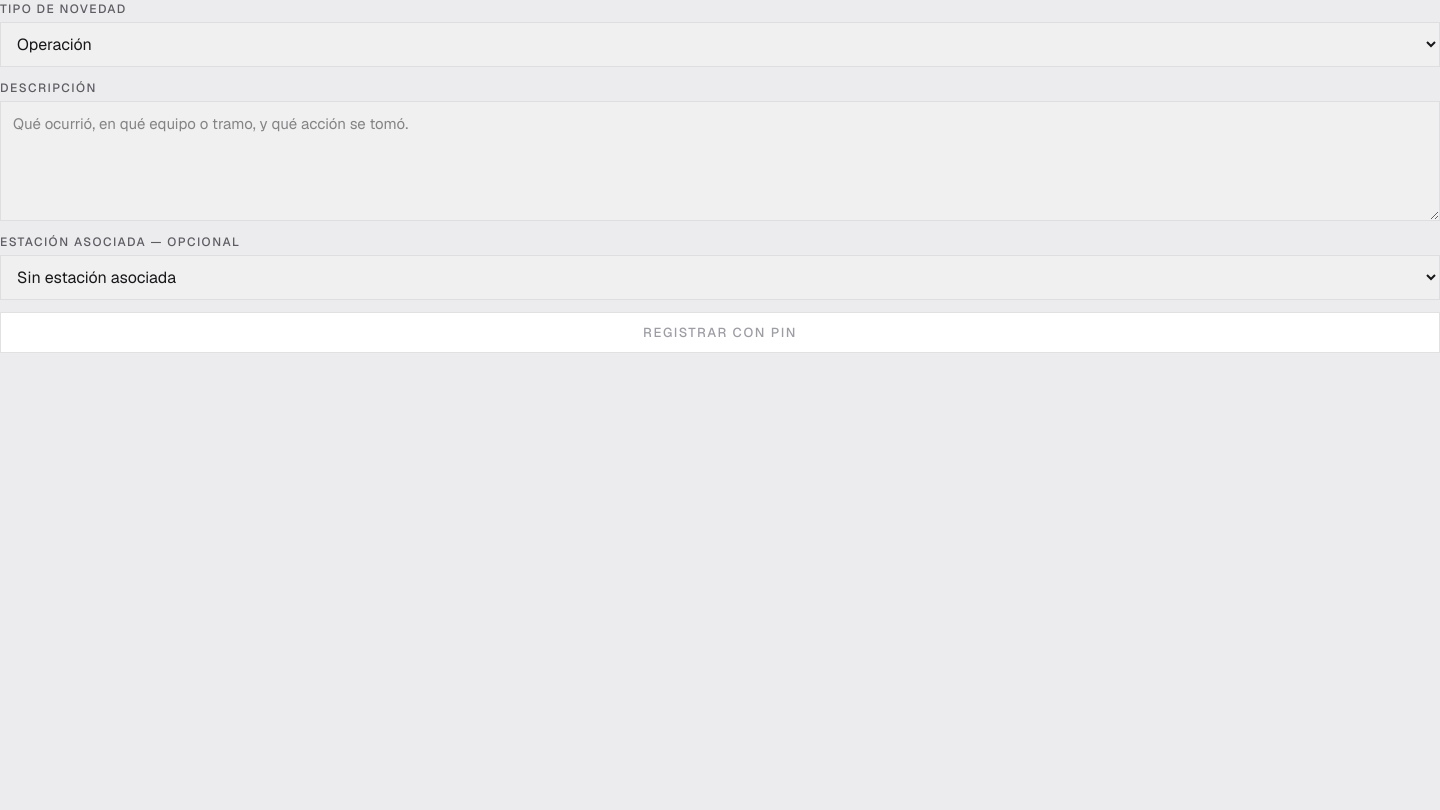
Test: ShiftNoteForm › commits a structured note stamped with actor + workstation + timestamp
Select "Incidente" in the dropdown labelled "Tipo de novedad" at (720, 44), box [0,22,1439,67]
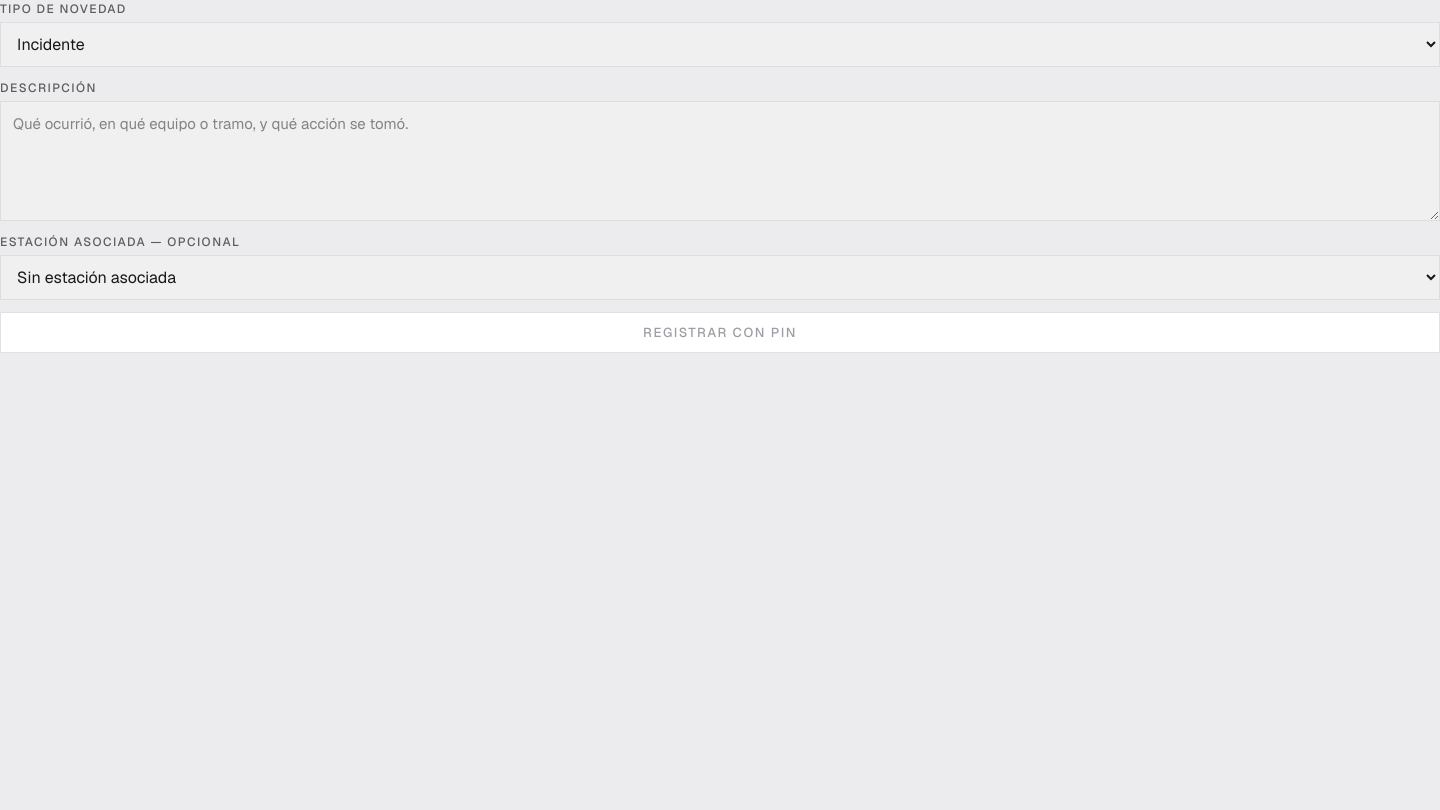
Type "Vibración anómala en bomba P-201, se detuvo y avisó a mantención." into the text box labelled "Descripción" at (720, 161), box [0,101,1439,220]
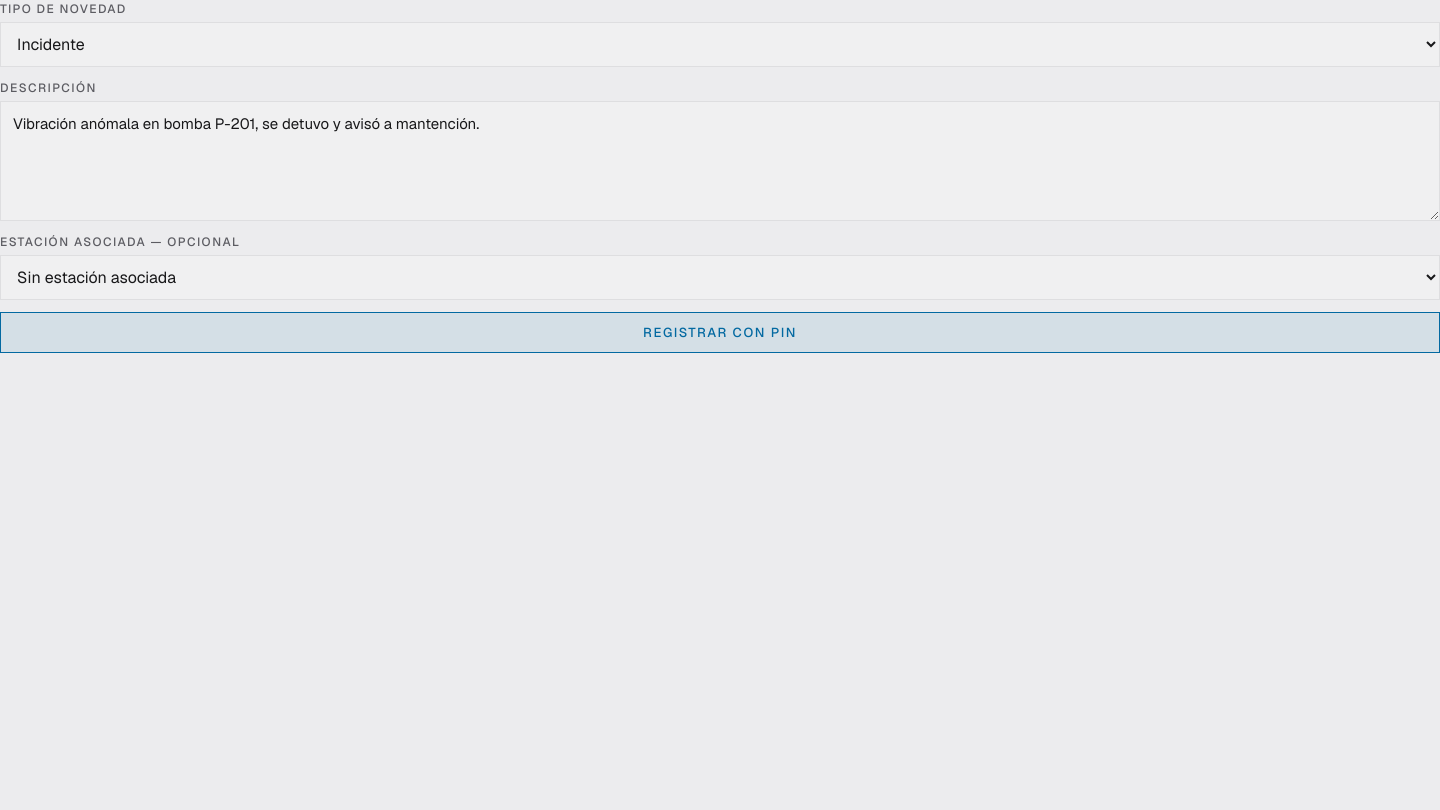
Select "Puerto Hernández" in the dropdown labelled "Estación asociada — opcional" at (720, 277), box [0,254,1439,300]
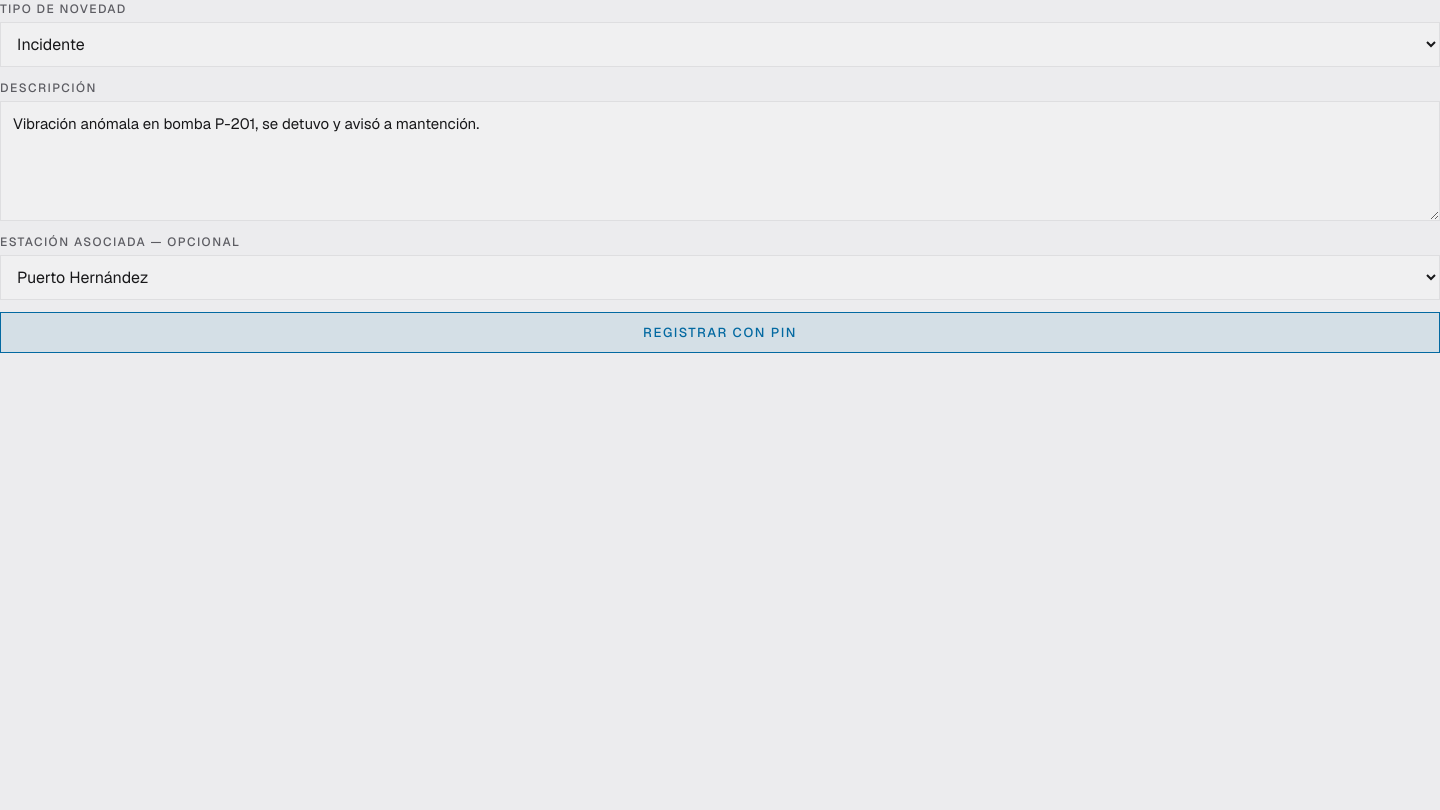
Click the button "Registrar con PIN" at (720, 332), box [0,312,1439,353]
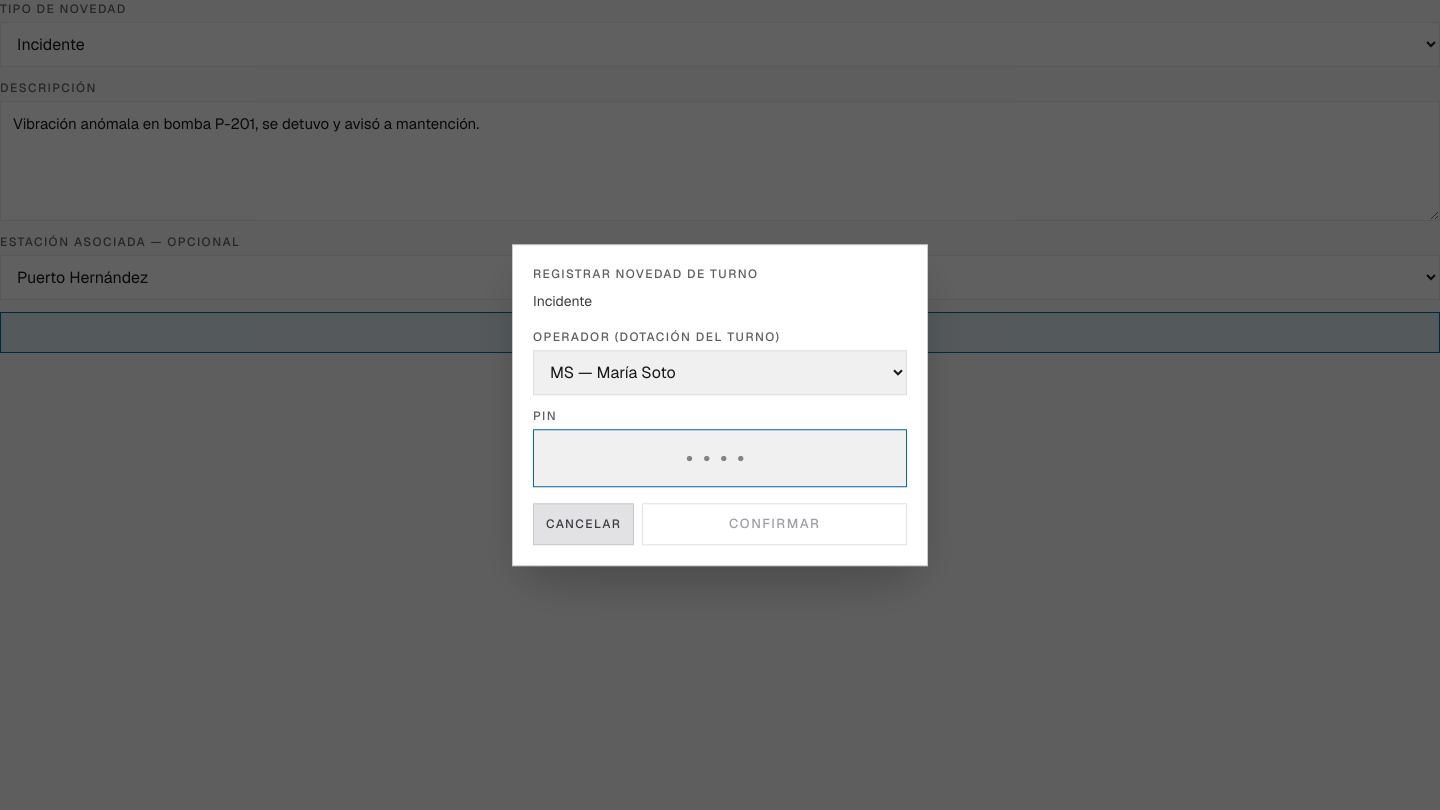
Type "0580" into the password field labelled "PIN" at (720, 458), box [533,429,907,487]
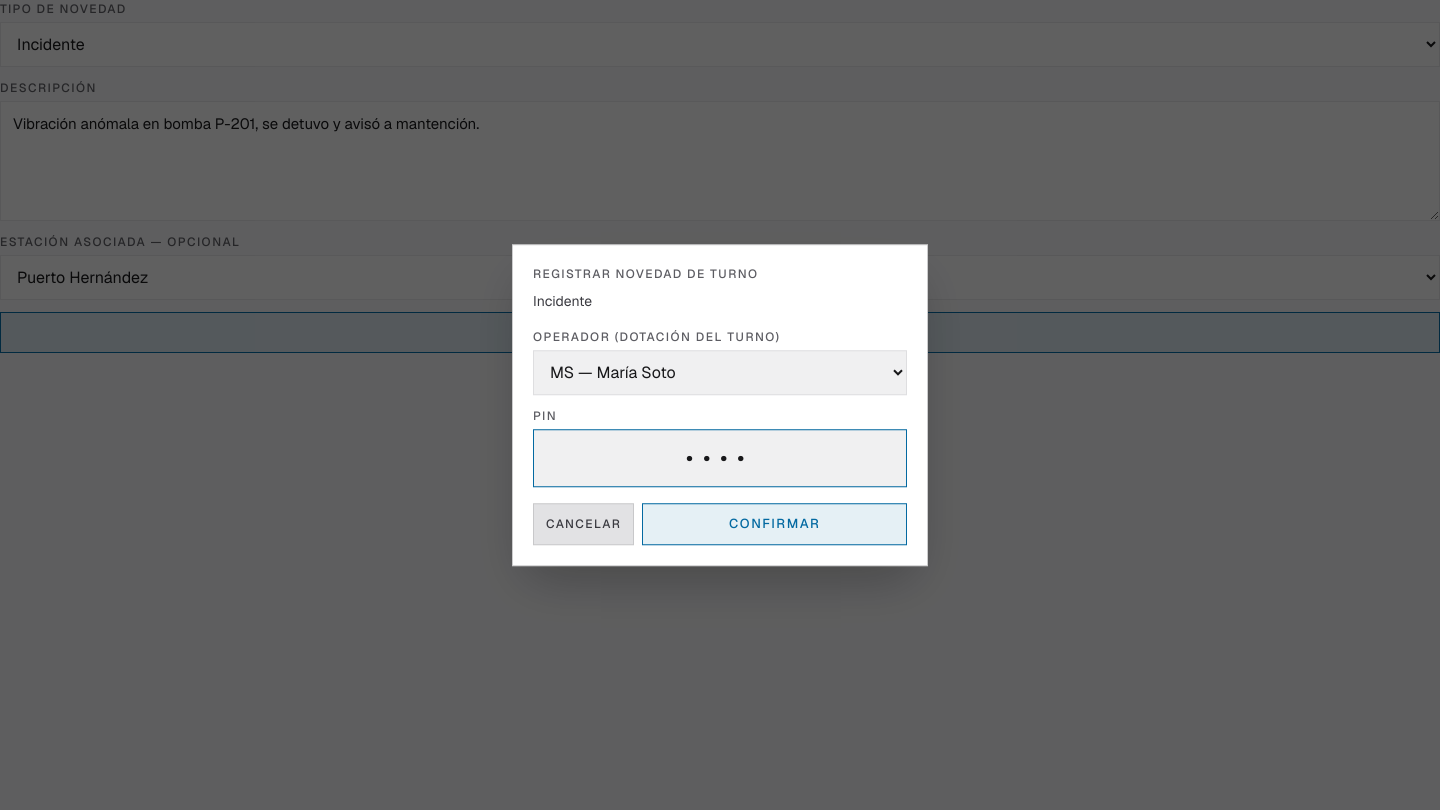
Click the button "Confirmar" at (775, 524), box [642,503,907,545]
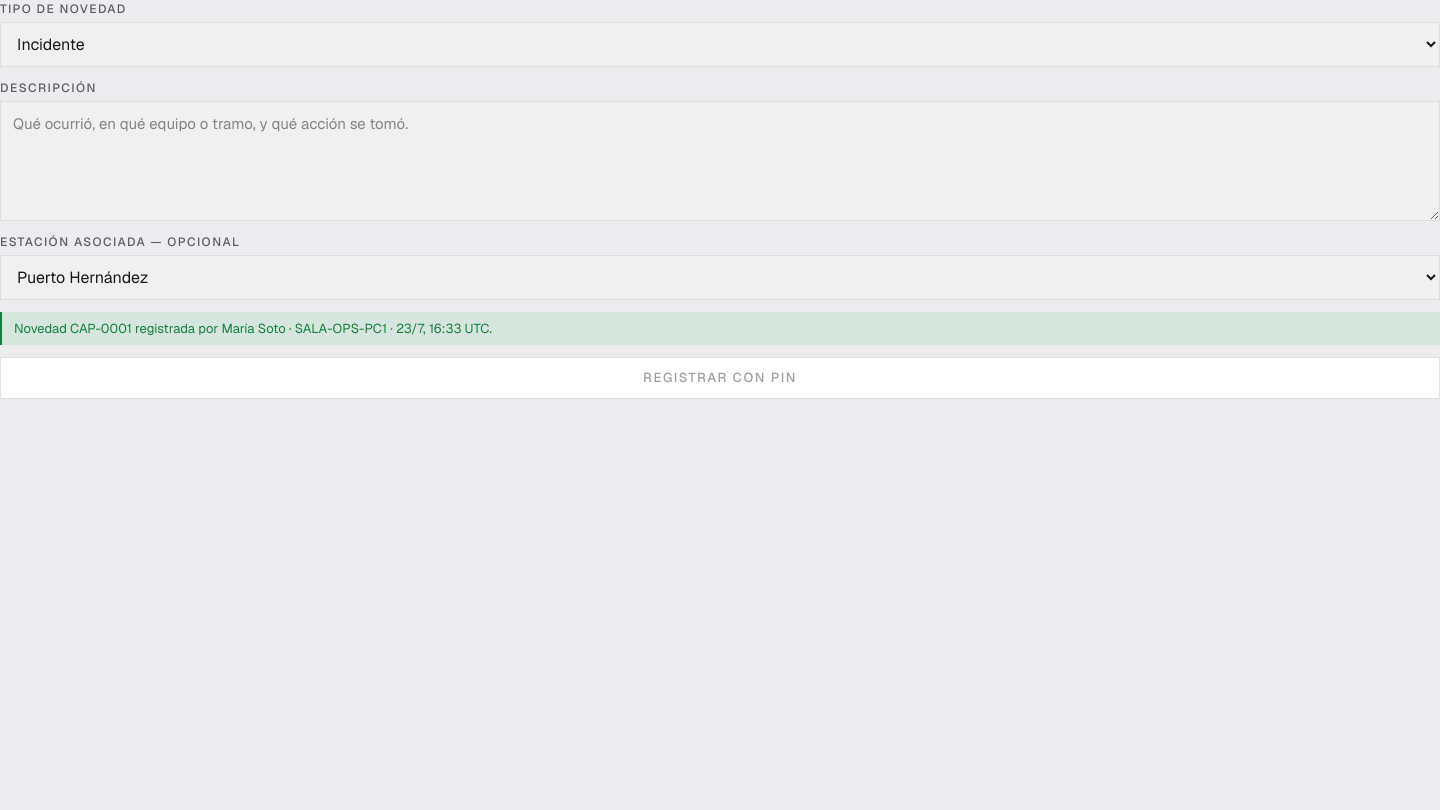
Expected: the message shows "registrada por María Soto", [14,320,492,336]
Expected: the message shows "SALA-OPS-PC1", [14,320,492,336]
